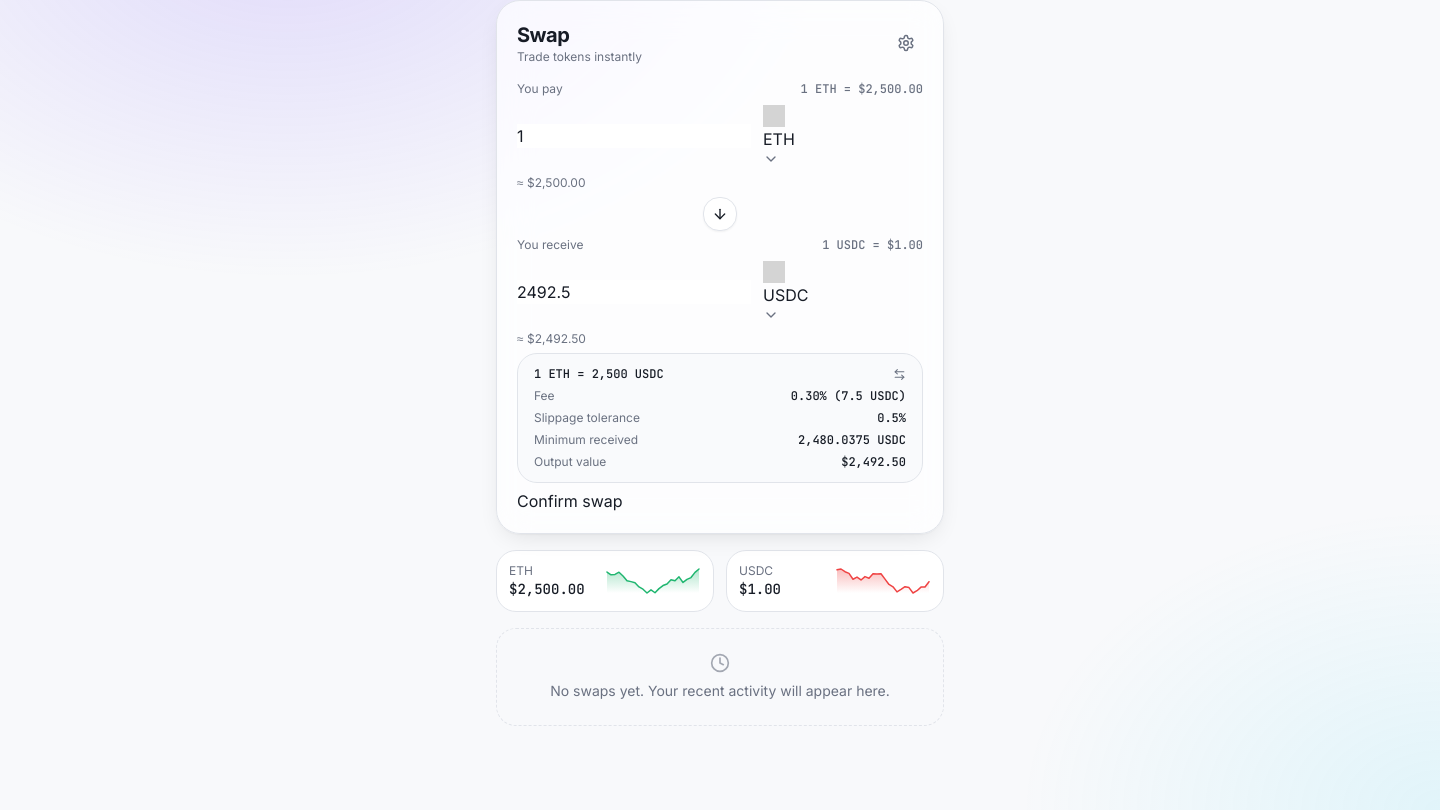
Test: SwapCard integration (en locale) › submits a mock swap, records it in history, and resets the amount
Expected: the field labelled "You pay" is shown, x1=517 y1=124 x2=751 y2=148
Click the button "Confirm swap" at point(570, 501), box x1=517 y1=489 x2=623 y2=513
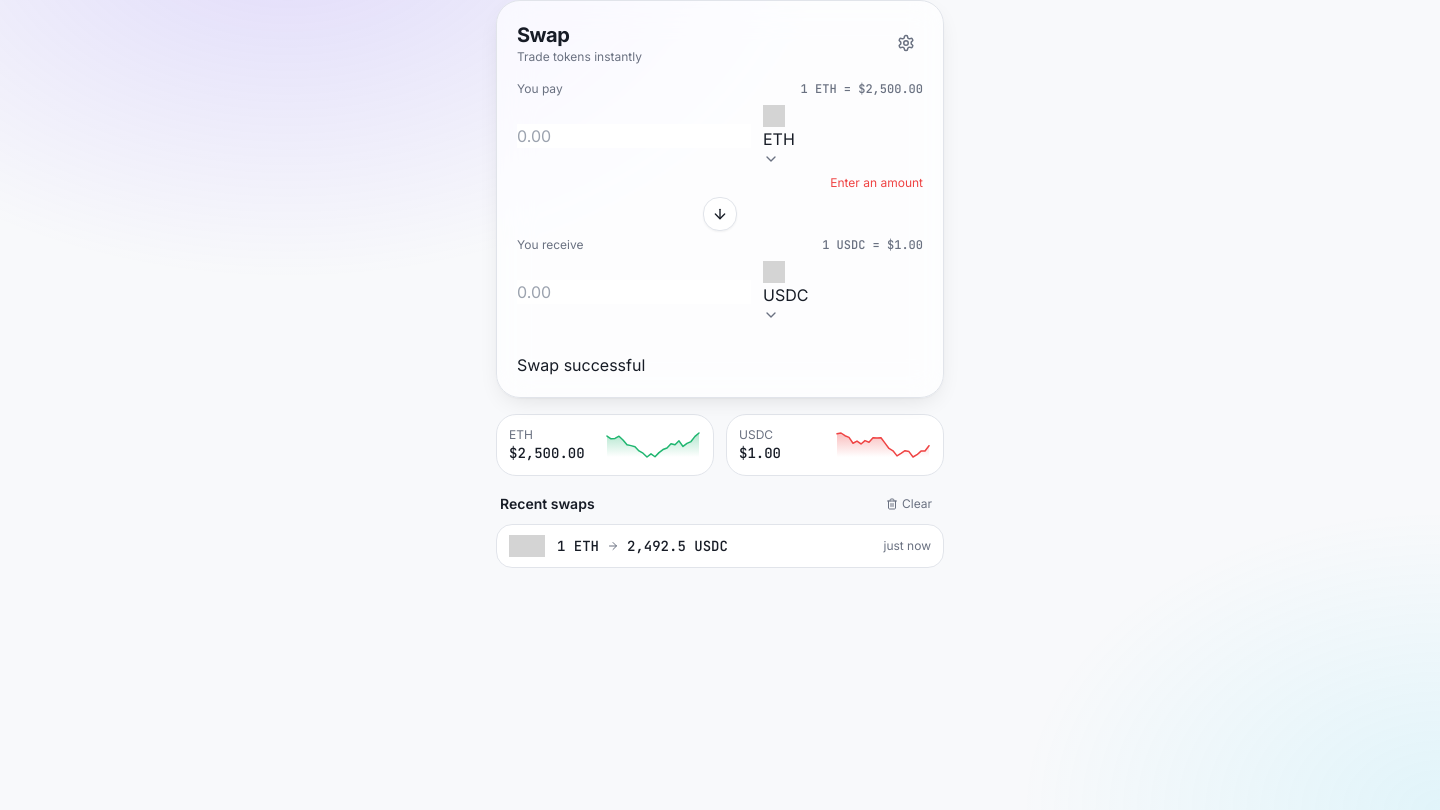
Expected: the list item shows "ETH", x1=574 y1=537 x2=599 y2=555
Expected: the list item shows "USDC", x1=694 y1=537 x2=728 y2=555
Expected: the field labelled "You pay" is empty, x1=517 y1=124 x2=751 y2=148
